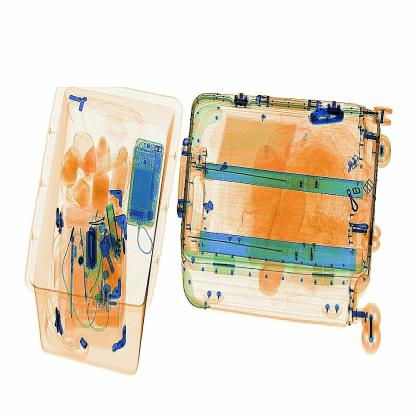scissors: (302, 91, 353, 139)
